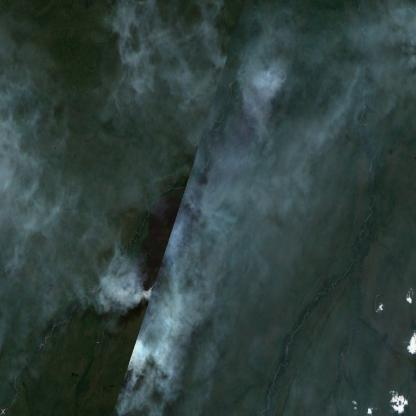fire: (119, 274, 155, 353), (263, 63, 291, 88)
